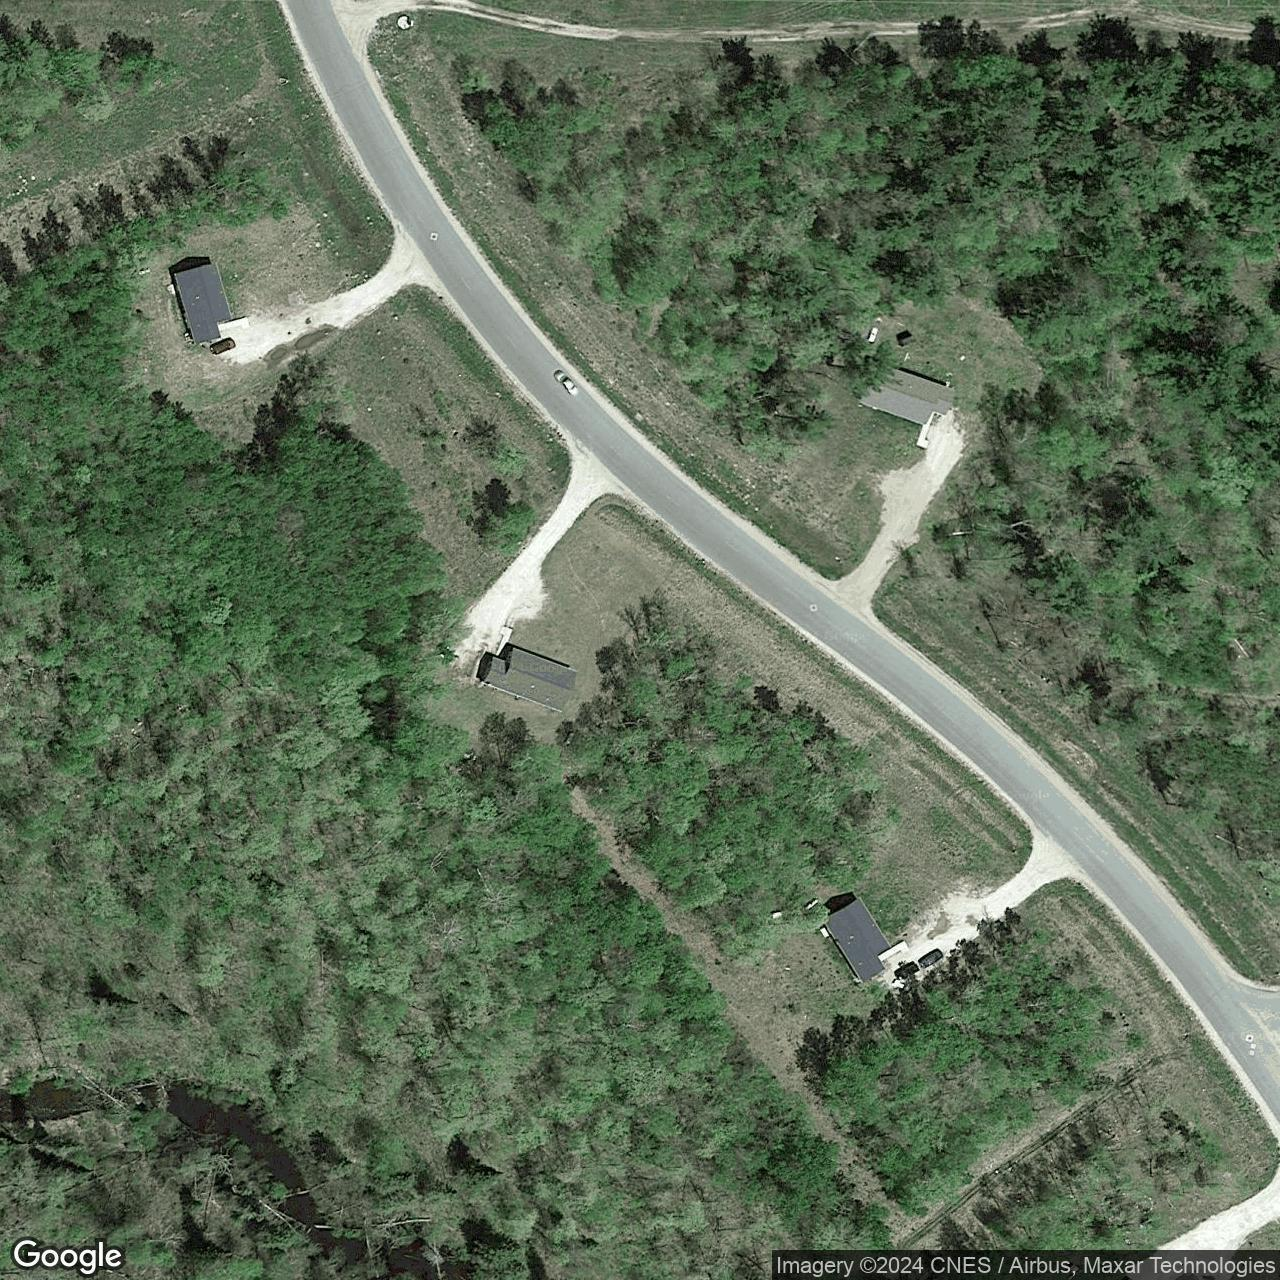House: (479, 648, 579, 714), (859, 362, 955, 425), (822, 897, 892, 982), (172, 261, 233, 345)
Propane: (865, 325, 880, 346), (803, 897, 821, 912)
